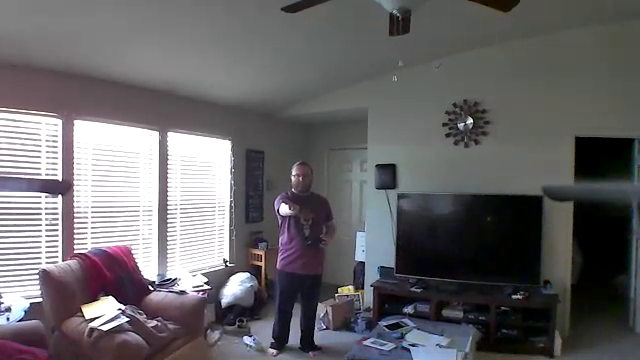land: (277, 196, 305, 221)
